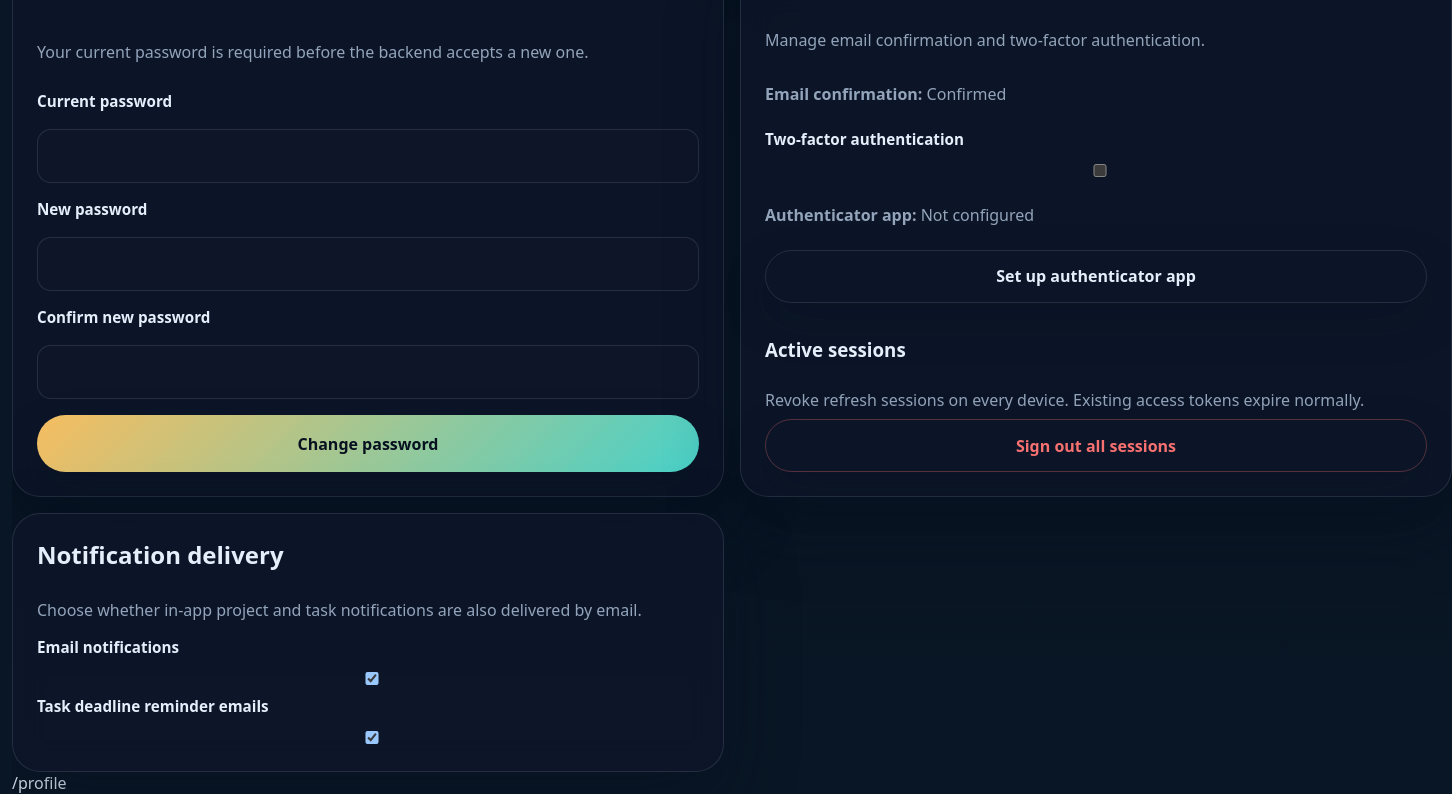
Profile page › revokes all sessions and navigates to login
(page scrolled)
Step 1. Click the button "Sign out all sessions" → x=1096, y=446, box [765,419,1427,472]
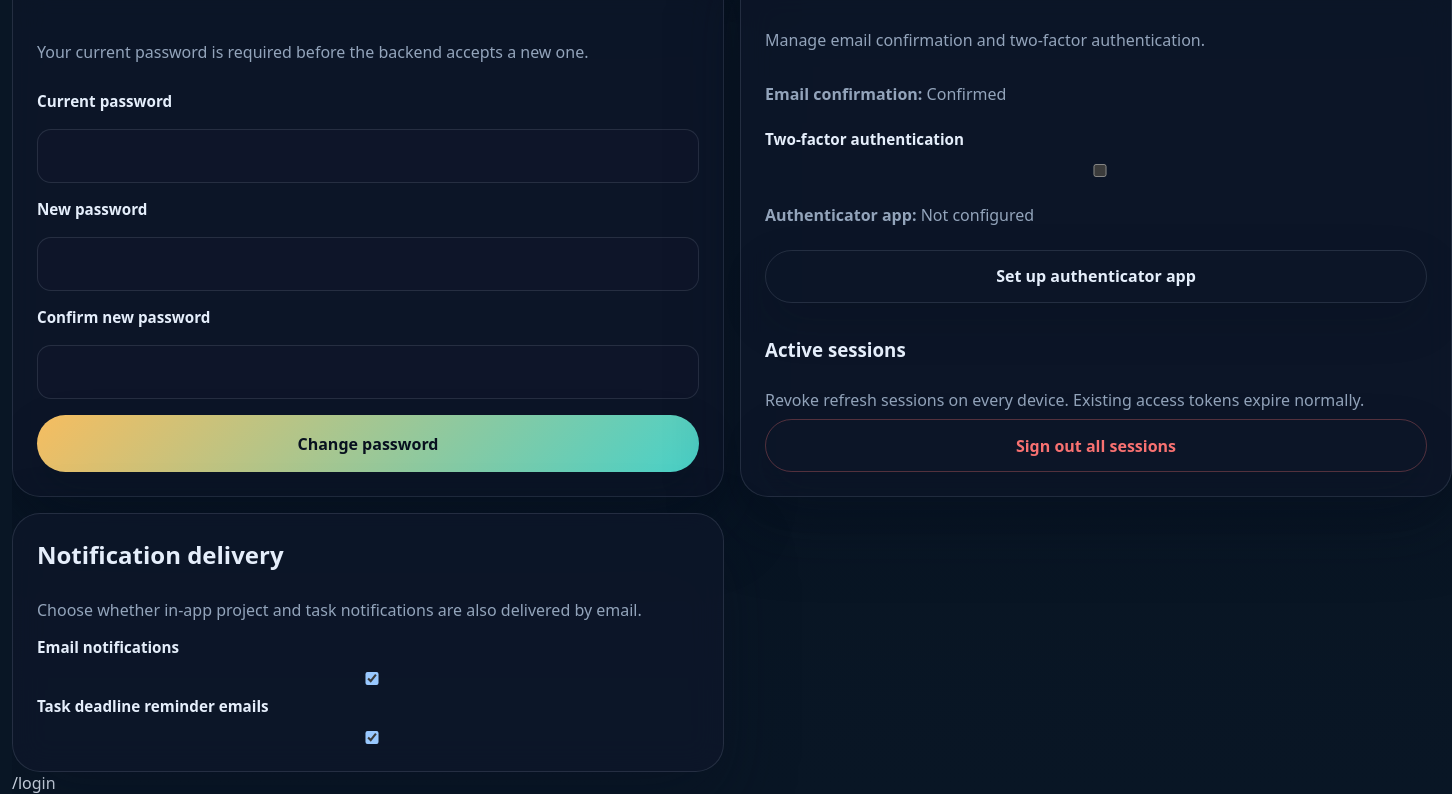
Expected: the text with test id "location" reads "/login", [12,772,56,793]
